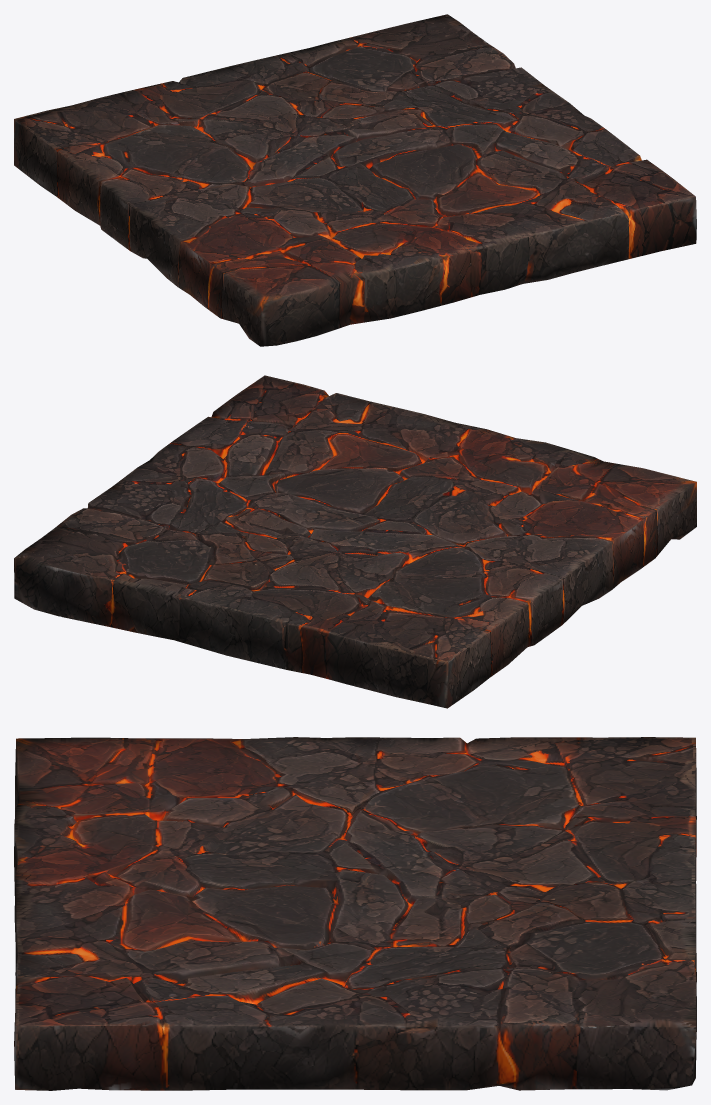
File: Tile_Lava_Floor.fbx
3 views of the same model, one above another, from view 1: azimuth 30°, elevation 25°; view 2: azimuth 150°, elevation 25°; view 3: azimuth 270°, elevation 25° (orthographic). The views are drawn at different scales.
Parts seen in each view (by area): view 1: texture_mapping; view 2: texture_mapping; view 3: texture_mapping.
Boxes of the visible parts, x1,y1,x2,y2 form: texture_mapping: [14, 14, 696, 346]; texture_mapping: [14, 375, 696, 708]; texture_mapping: [14, 737, 696, 1090].
Bounding box in the file's own units: 1 × 0.9966 × 0.1225.
Materials: 1 (1 with a texture image).
